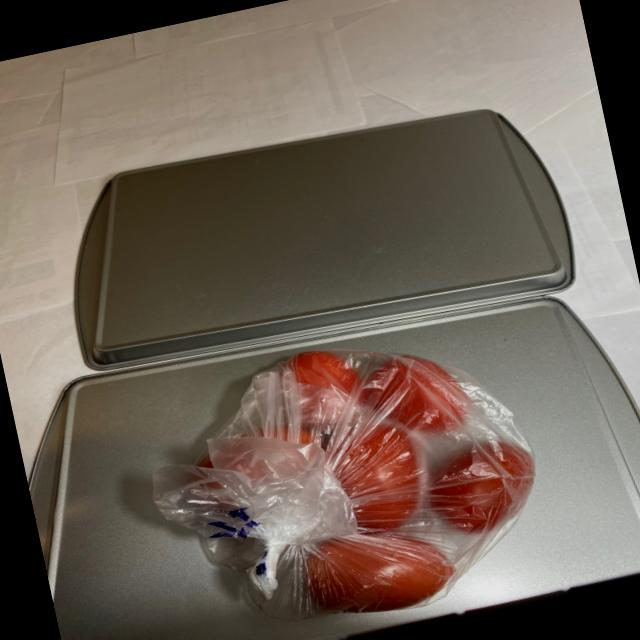tomato: (166, 307, 549, 640)
